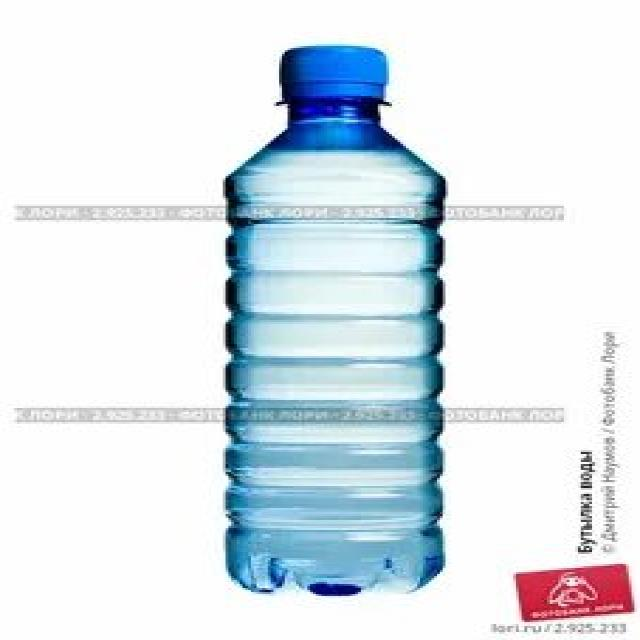blue: (228, 101, 444, 596)
